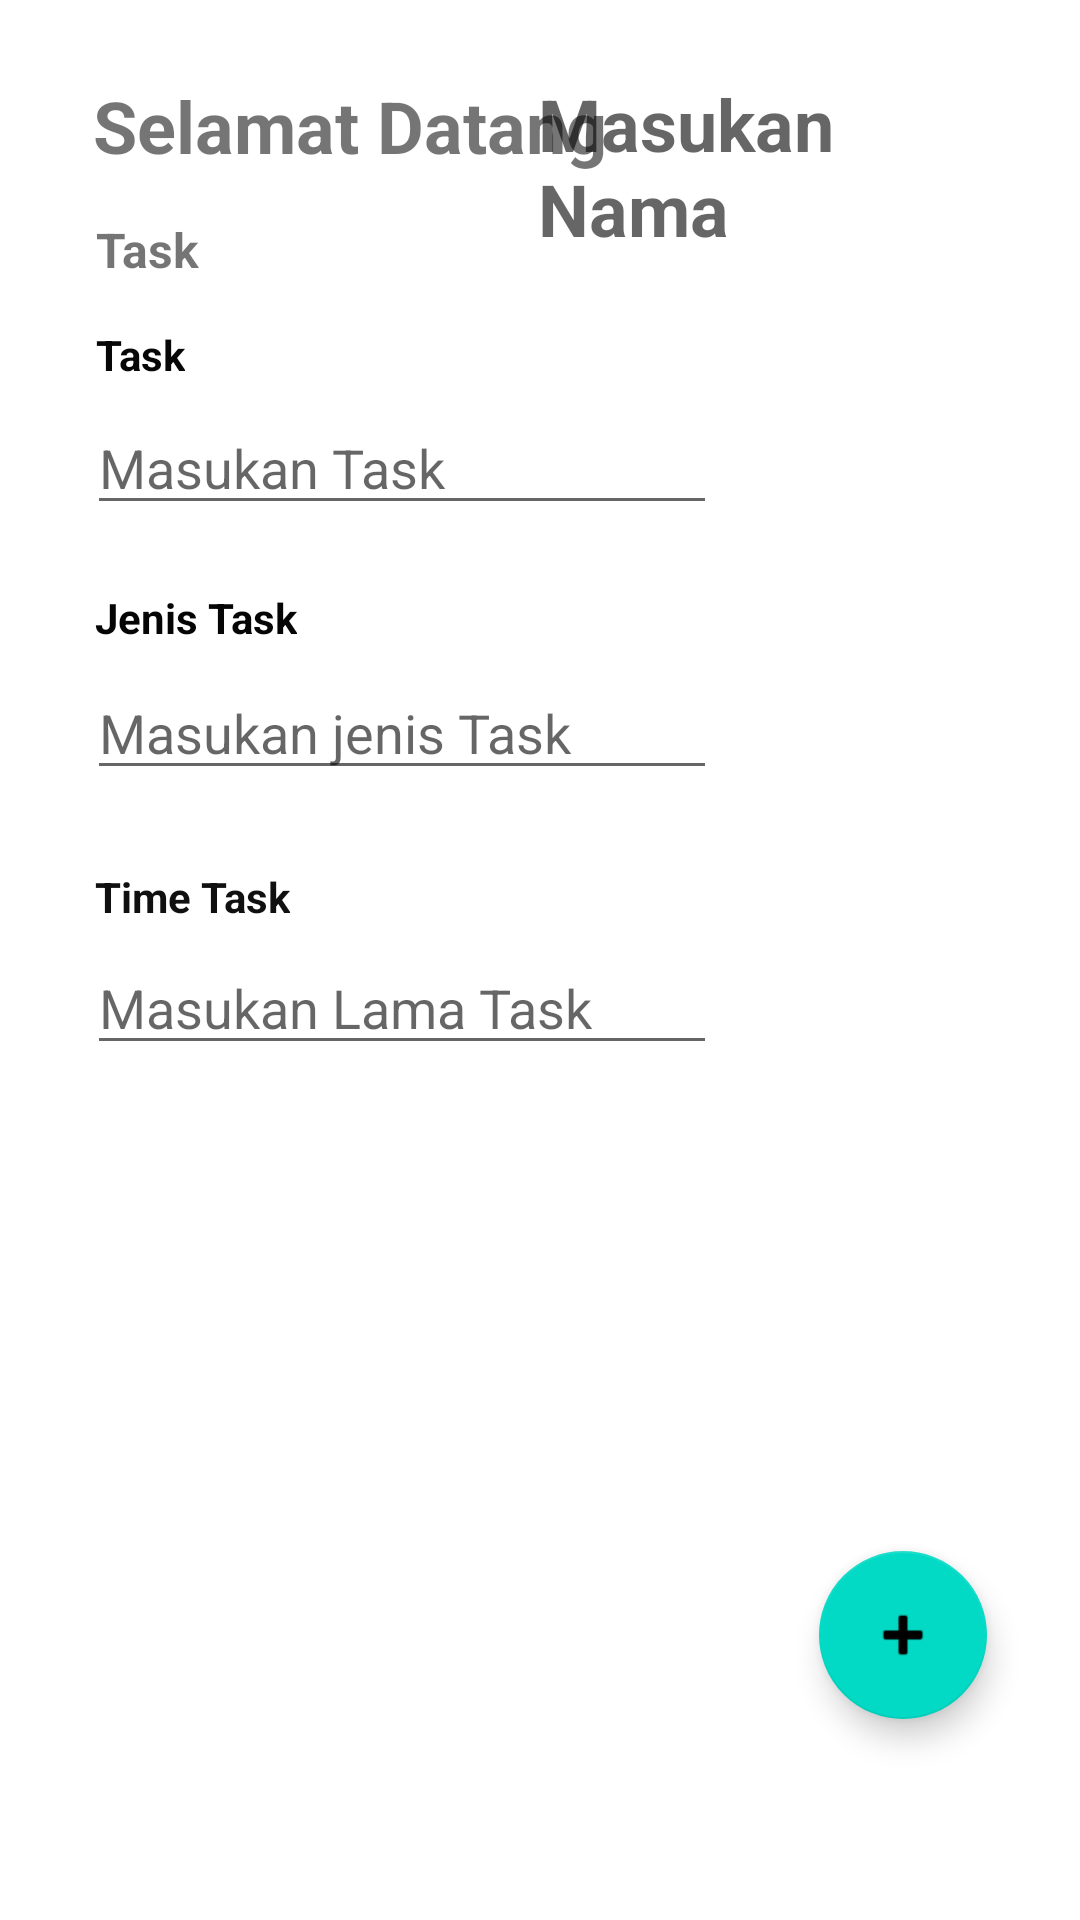

Where icons sit on this 1080×1920 app screen, as bbox=(x1, y1, x2, y2):
add: bbox=(819, 1551, 987, 1719)
